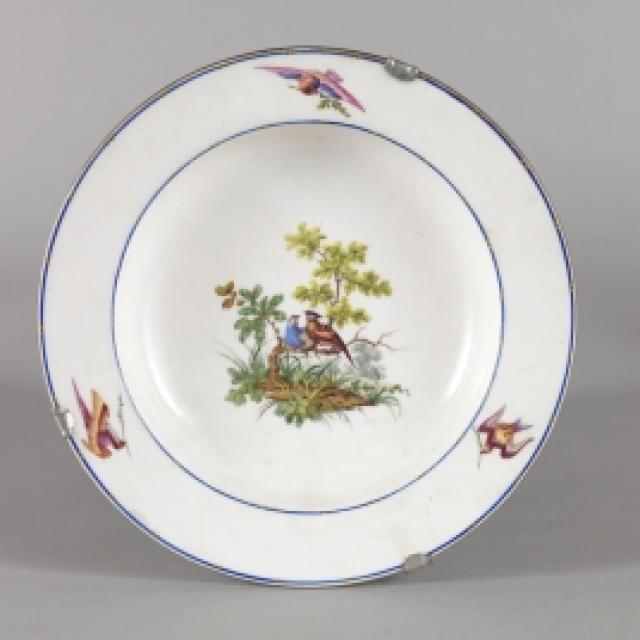non-organic waste: (24, 28, 592, 632)
